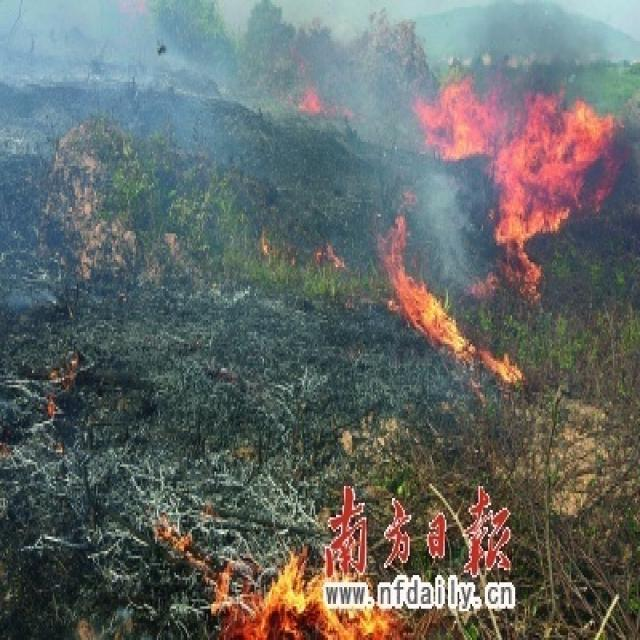Fire: (410, 60, 620, 301), (154, 500, 402, 640), (366, 209, 522, 385), (315, 240, 347, 270), (296, 82, 323, 115)
Smoke: (315, 34, 482, 298)
